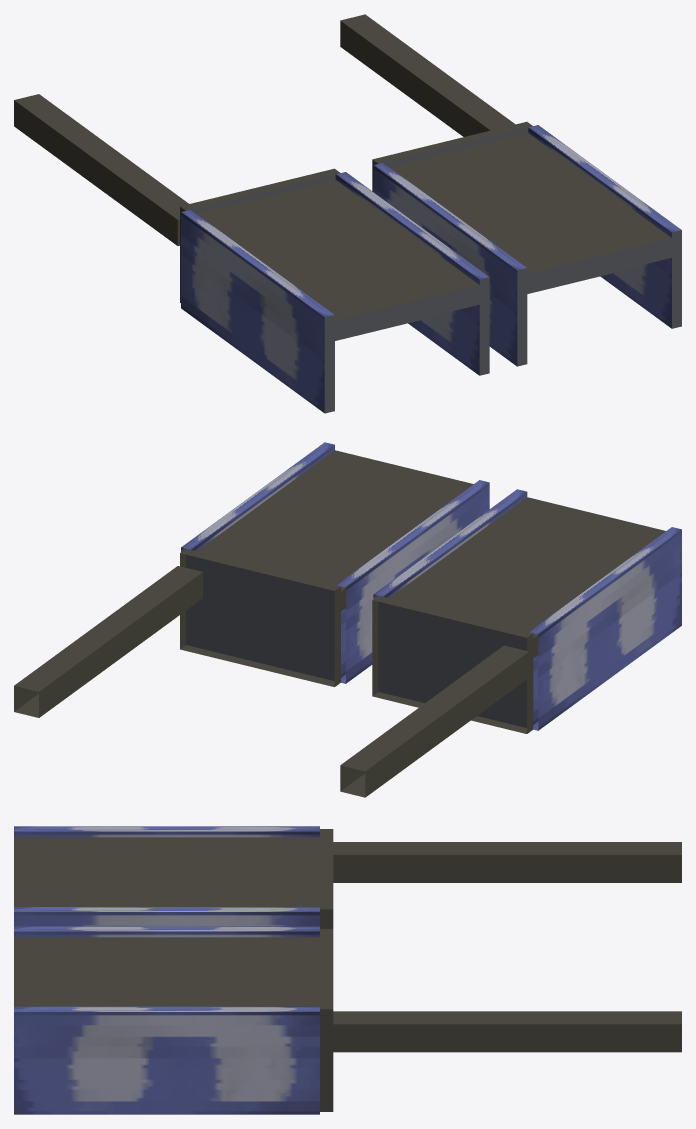
File: pz_native_street_decoration_01_47.obj
3 renders of one model, top to bottom at view 1: azimuth 30°, elevation 25°; view 2: azimuth 150°, elevation 25°; view 3: azimuth 270°, elevation 25°, orthographic. The views are drawn at different scales.
Parts seen in each view (by area): view 1: pz_native_street_decoration_01_47; view 2: pz_native_street_decoration_01_47; view 3: pz_native_street_decoration_01_47.
Boxes of the visible parts, box(x1,y1,x2,y2) form: pz_native_street_decoration_01_47: box(14, 14, 681, 413); pz_native_street_decoration_01_47: box(14, 442, 681, 797); pz_native_street_decoration_01_47: box(14, 826, 681, 1114).
Bounding box in the file's own units: 1.04 × 0.2689 × 1.59.
Materials: 1 (1 with a texture image).
